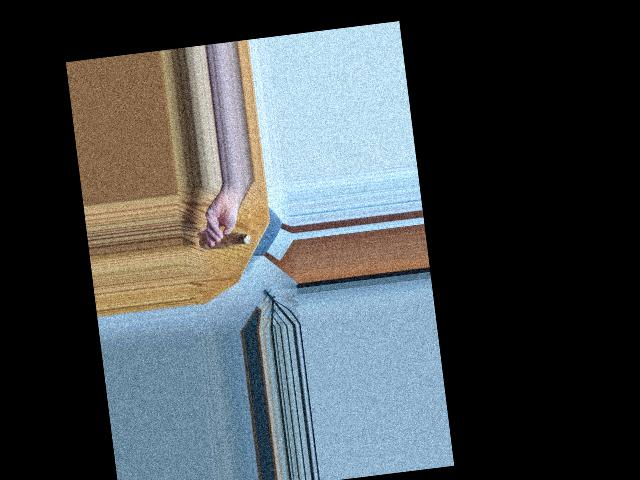sweet_potato: (201, 227, 248, 255)
